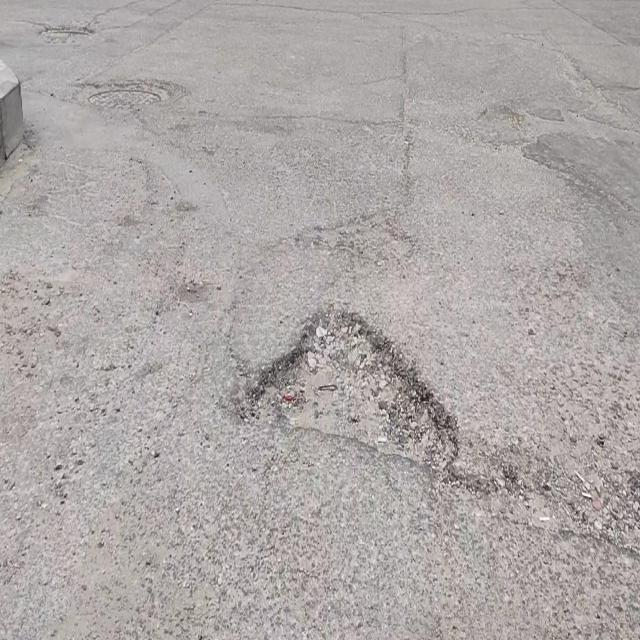Potholes: (249, 305, 462, 474)
